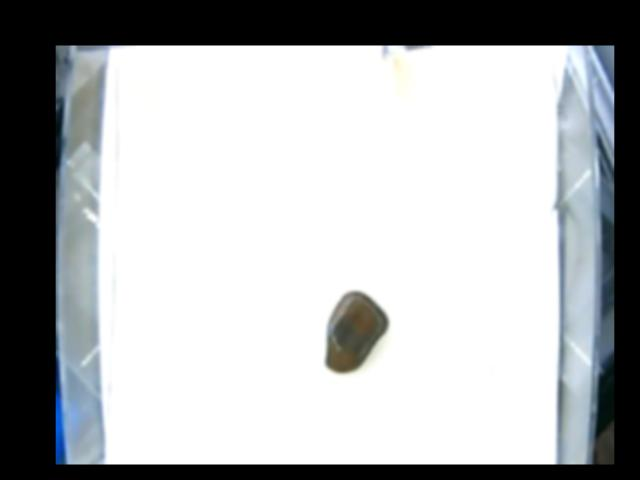Pebble: (323, 289, 391, 371)
